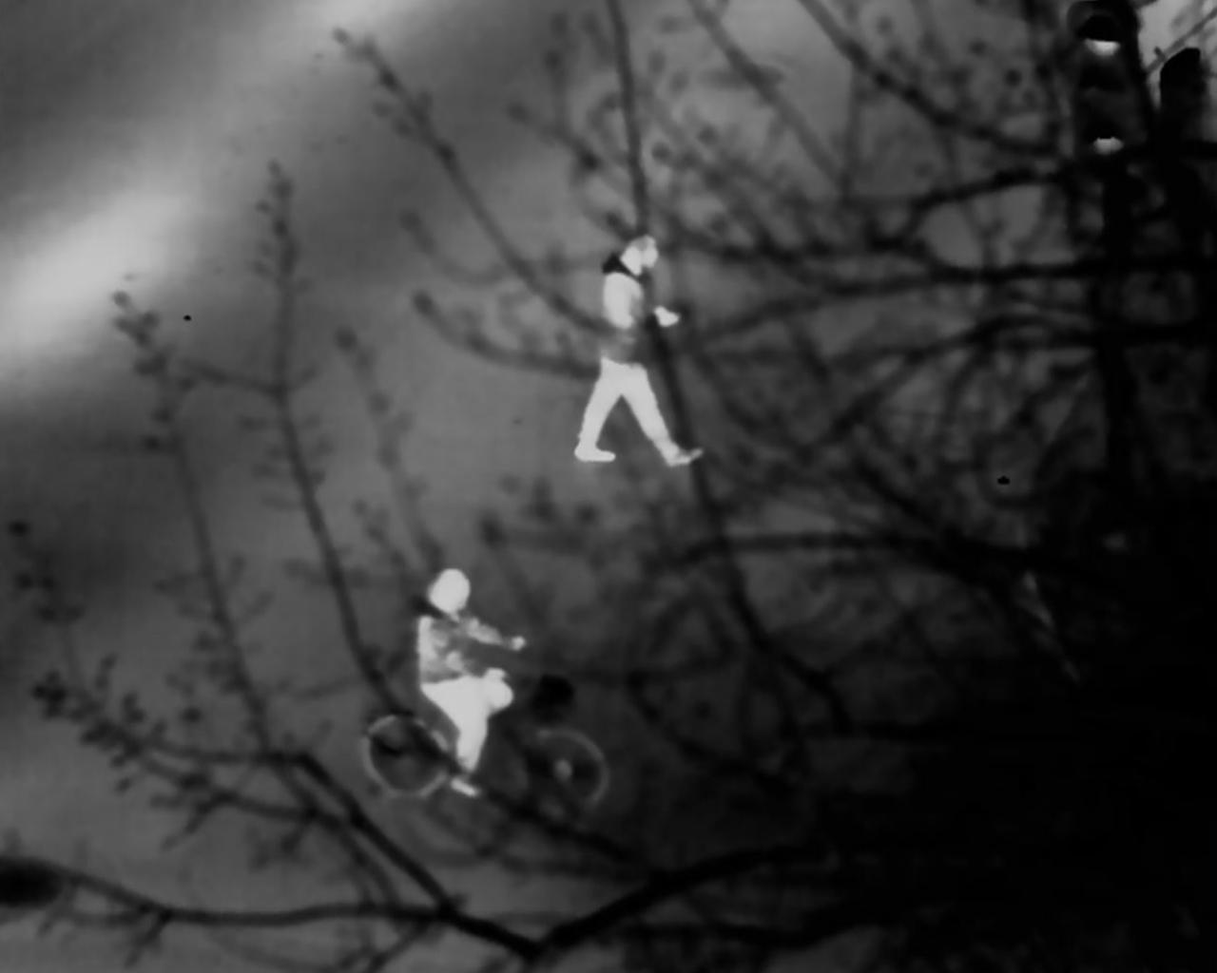person: (412, 564, 540, 805), (583, 230, 705, 473)
